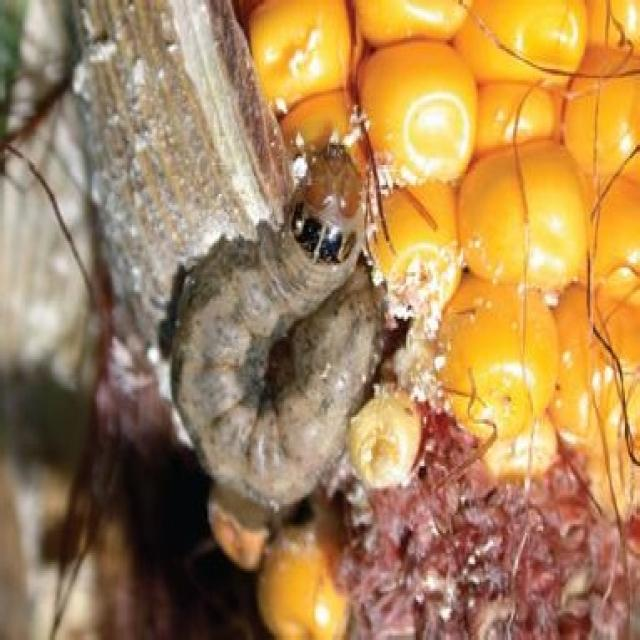black cutworm: (165, 155, 389, 516)
